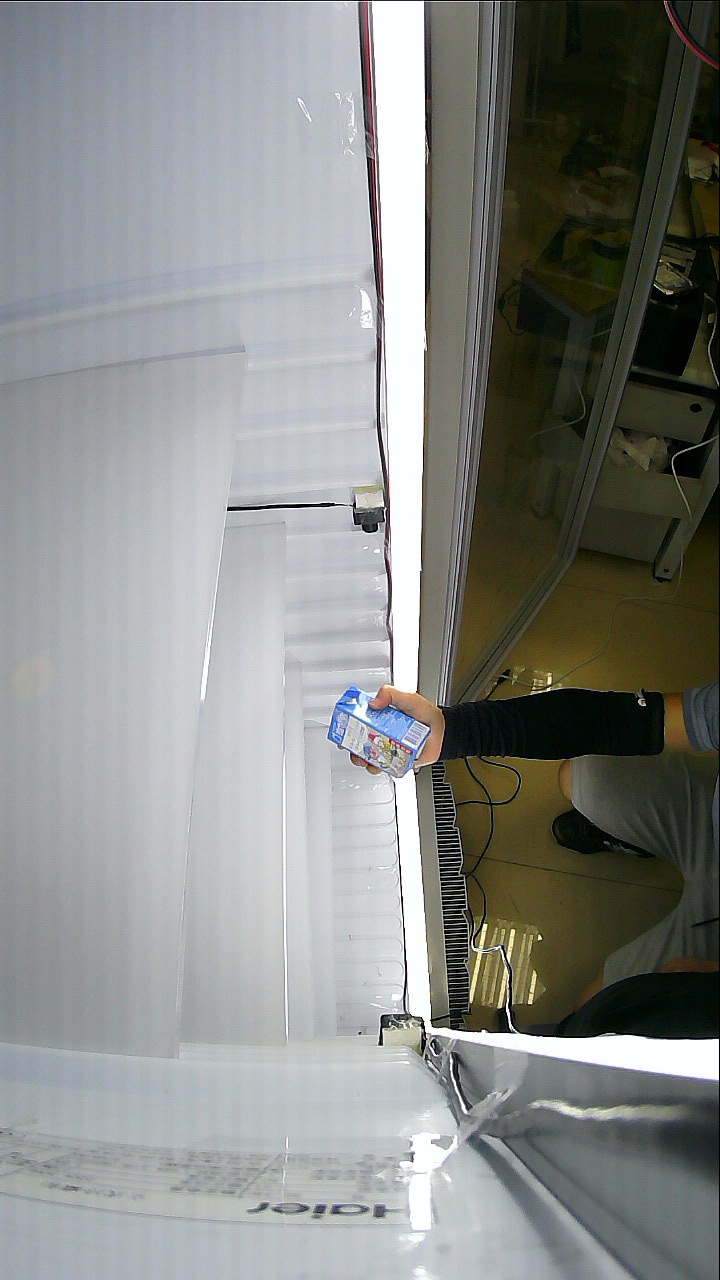VitaSoyOriginal: (332, 690, 517, 782)
